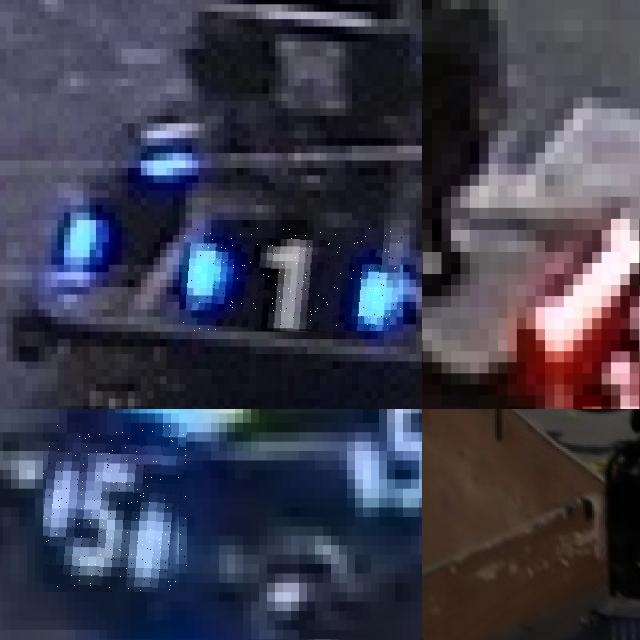B1: (179, 228, 403, 332)
B5: (43, 423, 187, 592), (347, 409, 422, 517)
R3: (582, 351, 640, 409)
